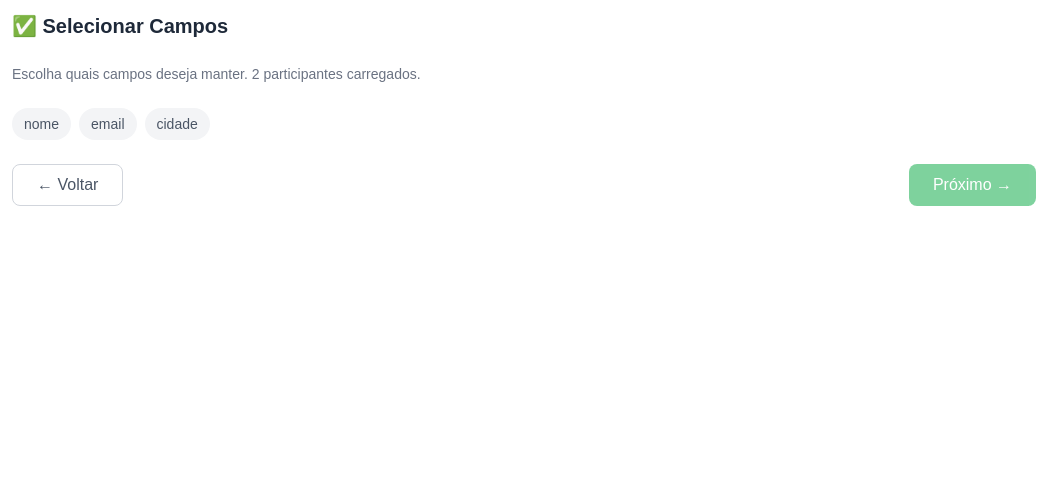
Scenario: StepSelectFields › enables next button after selecting a field
Click the button "nome": (42, 124) [12, 108, 71, 140]
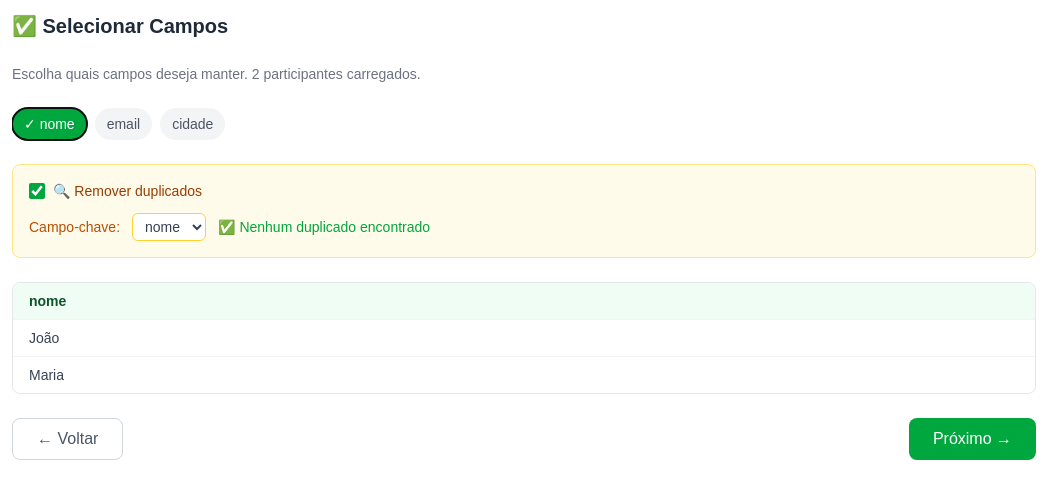
Now the button "Próximo →" is enabled, box [909, 418, 1036, 460]
